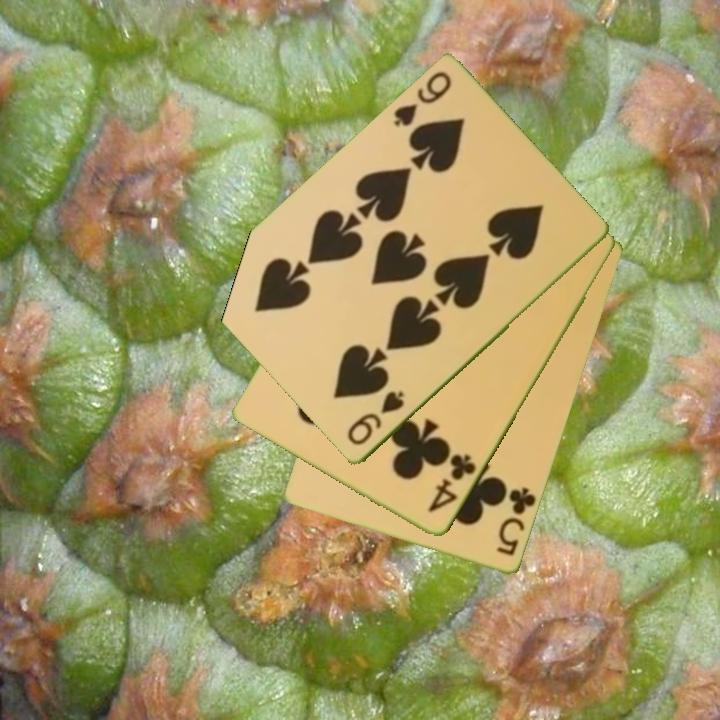4c: (424, 450, 479, 516)
5c: (493, 484, 539, 560)
9s: (390, 68, 454, 131), (343, 388, 408, 449)
